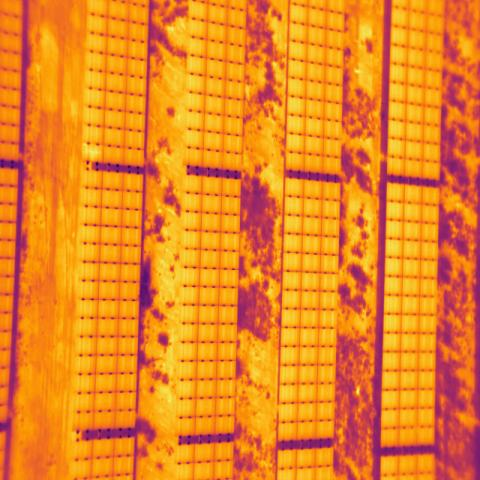fault: (82, 143, 104, 163)
